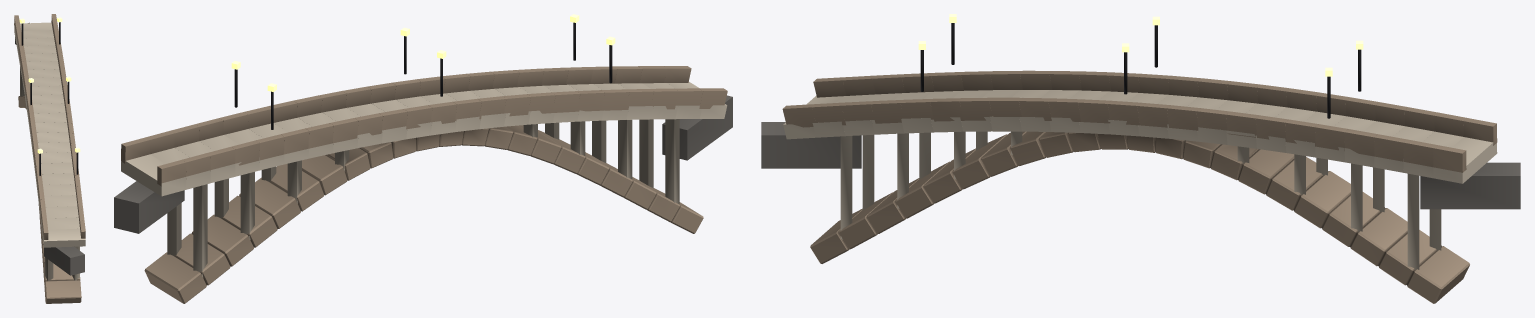
File: about_blogs.glb
3 views of the same model, side by side, from view 1: azimuth 30°, elevation 25°; view 2: azimuth 150°, elevation 25°; view 3: azimuth 270°, elevation 25° (orthographic). The views are drawn at different scales.
Parts seen in each view (by area): view 1: bridge; view 2: bridge; view 3: bridge.
Part boxes in pixels (<box>): bridge: <box>14,14,85,303</box>; bridge: <box>114,14,732,303</box>; bridge: <box>761,14,1520,303</box>.
Bounding box in the file's own units: 7.55 × 6.26 × 14.37.
